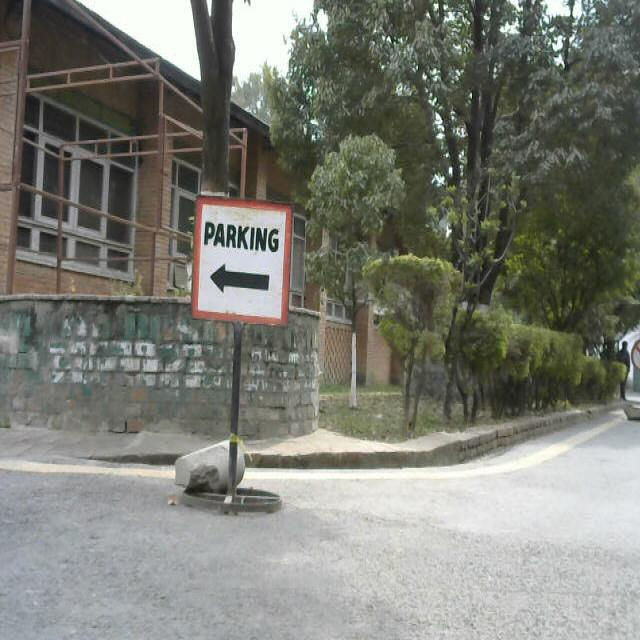Parking: (184, 187, 304, 538)
Road: (5, 458, 640, 638)
trees: (308, 0, 638, 412), (375, 240, 459, 453), (502, 312, 599, 412), (458, 286, 523, 428)
